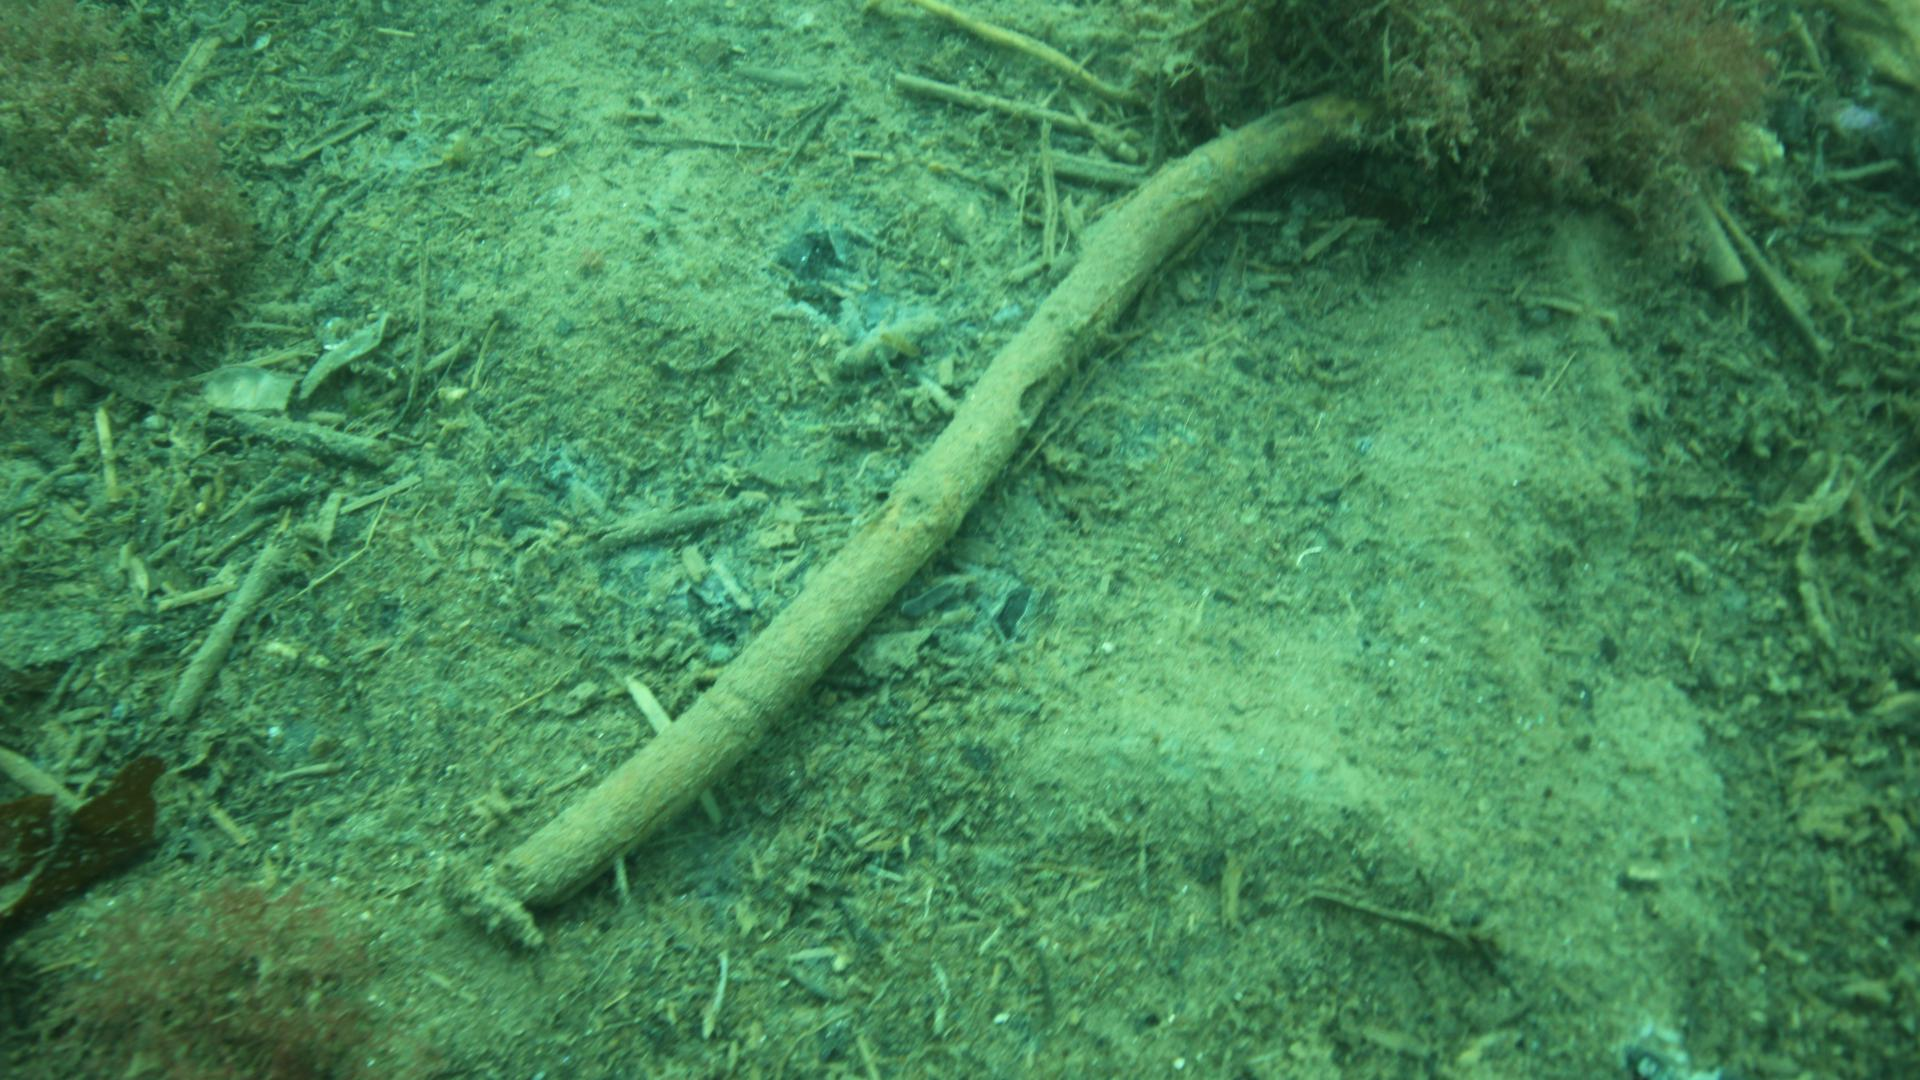wood: (493, 92, 1348, 911)
